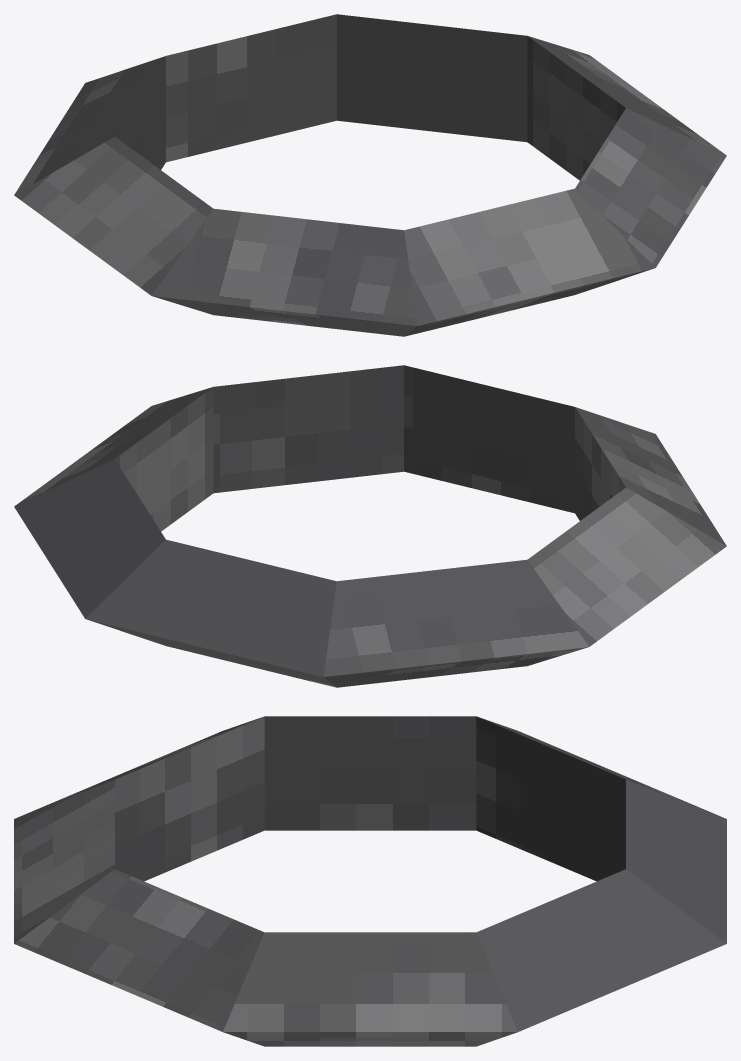
The model's file is rod-upring.obj.
3 renders of one model, top to bottom at view 1: azimuth 30°, elevation 25°; view 2: azimuth 150°, elevation 25°; view 3: azimuth 270°, elevation 25°, orthographic. The views are drawn at different scales.
Visible parts, largest first — view 1: upring_Torus.001; view 2: upring_Torus.001; view 3: upring_Torus.001.
Boxes of the visible parts, left/top/right/bottom form: upring_Torus.001: left=14, top=14, right=726, bottom=336; upring_Torus.001: left=14, top=365, right=726, bottom=687; upring_Torus.001: left=14, top=716, right=726, bottom=1046.
Size of the model in its own units: 0.9793 by 0.1732 by 0.9793.
